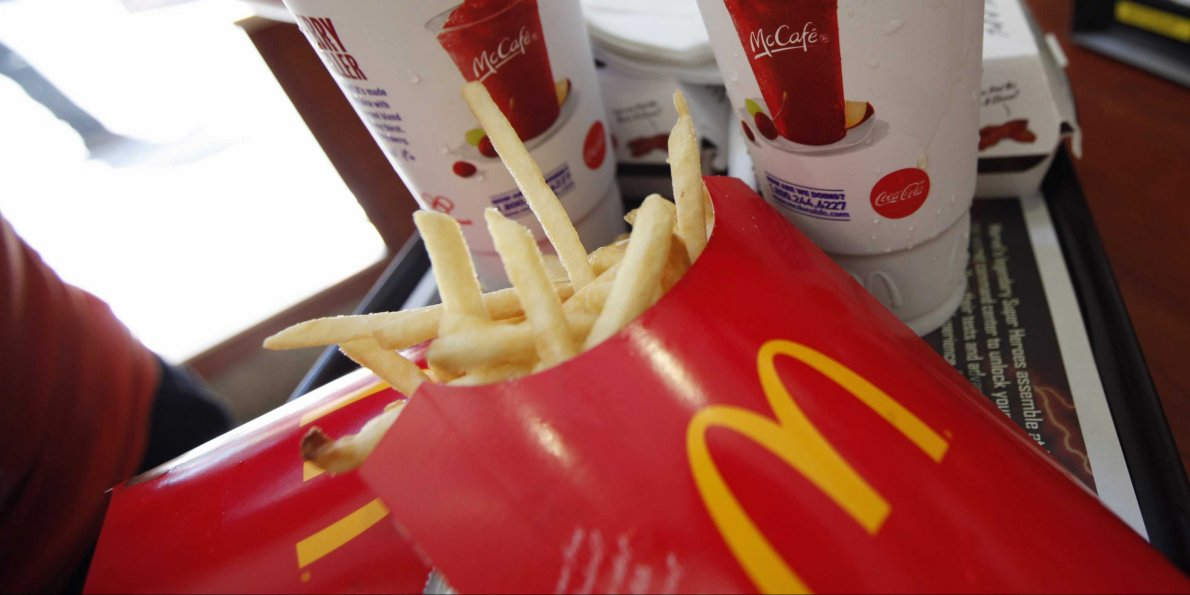mcdonalds: (685, 332, 947, 588), (685, 332, 935, 588)
